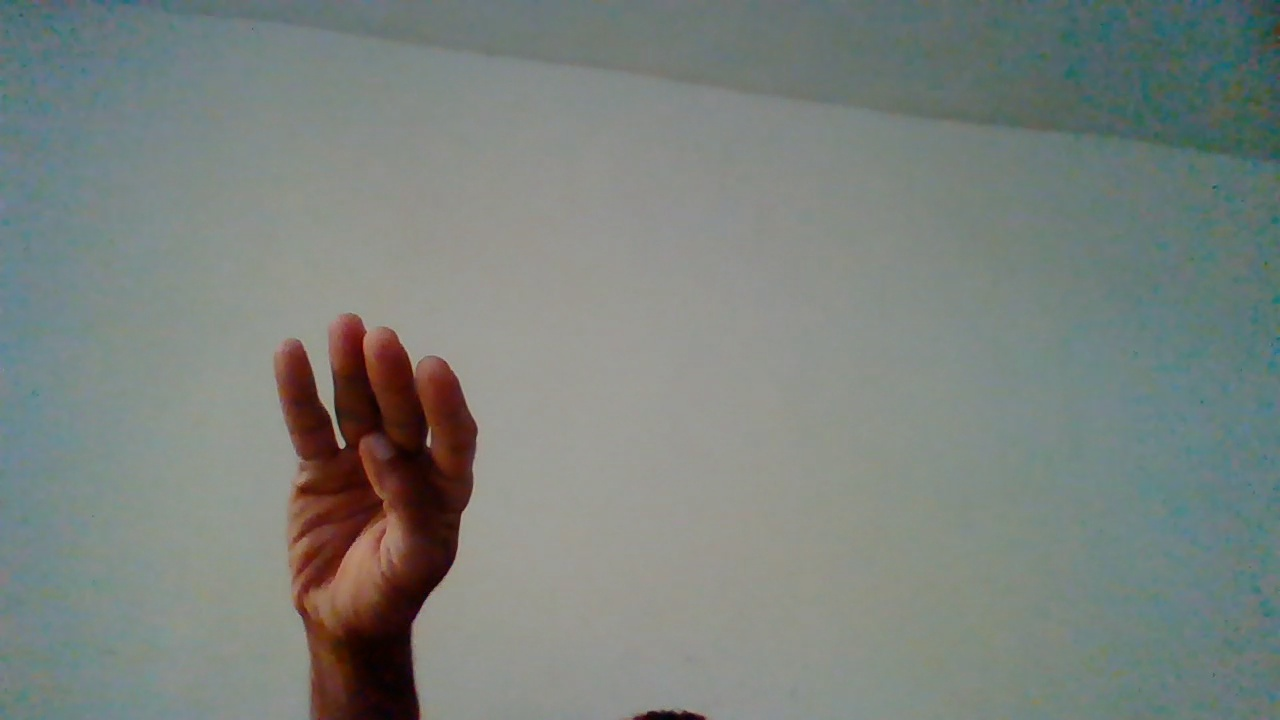me: (271, 309, 479, 698)
